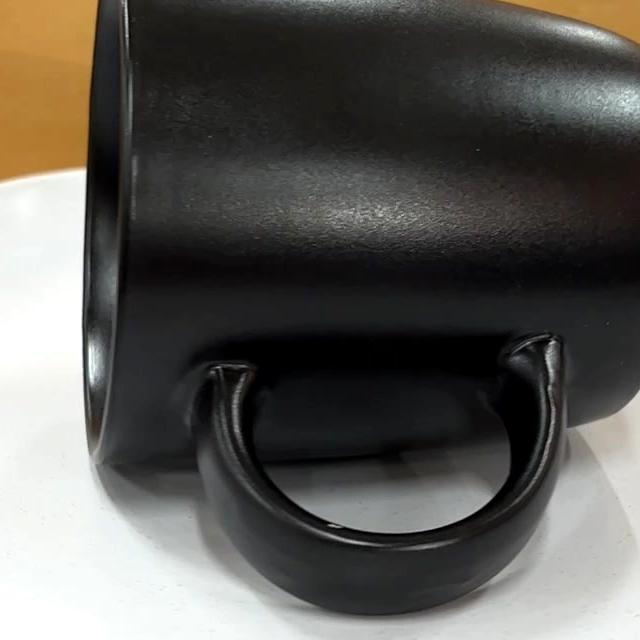cup: (84, 0, 640, 616)
